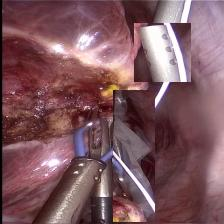Bipolar: (58, 101, 134, 173)
Grasper: (87, 117, 112, 150)
Irrigator: (133, 23, 190, 82)
Specimen Bag: (111, 90, 154, 222)
